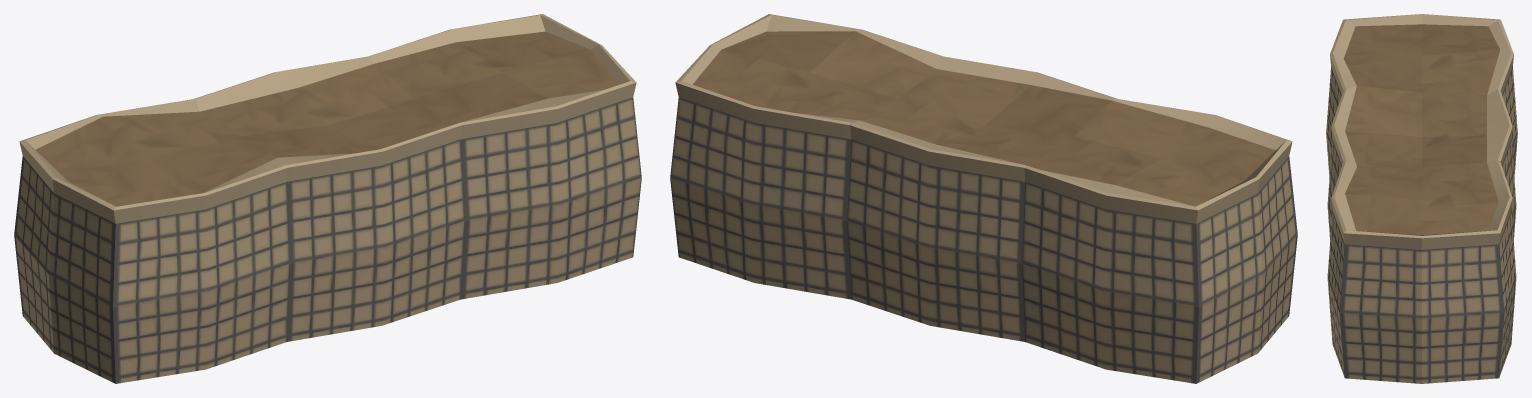
The model's file is SM_Prop_Barrier_Base_Row_01.fbx.
3 views of the same model, side by side, from view 1: azimuth 30°, elevation 25°; view 2: azimuth 150°, elevation 25°; view 3: azimuth 270°, elevation 25° (orthographic). The views are drawn at different scales.
Visible parts, largest first — view 1: SM_Prop_Barrier_Base_Row_01; view 2: SM_Prop_Barrier_Base_Row_01; view 3: SM_Prop_Barrier_Base_Row_01.
Part boxes in pixels (bbox=[...]): SM_Prop_Barrier_Base_Row_01: bbox=[14, 14, 641, 383]; SM_Prop_Barrier_Base_Row_01: bbox=[670, 14, 1297, 383]; SM_Prop_Barrier_Base_Row_01: bbox=[1326, 14, 1517, 383].
Bounding box in the file's own units: 342 × 105 × 122.
